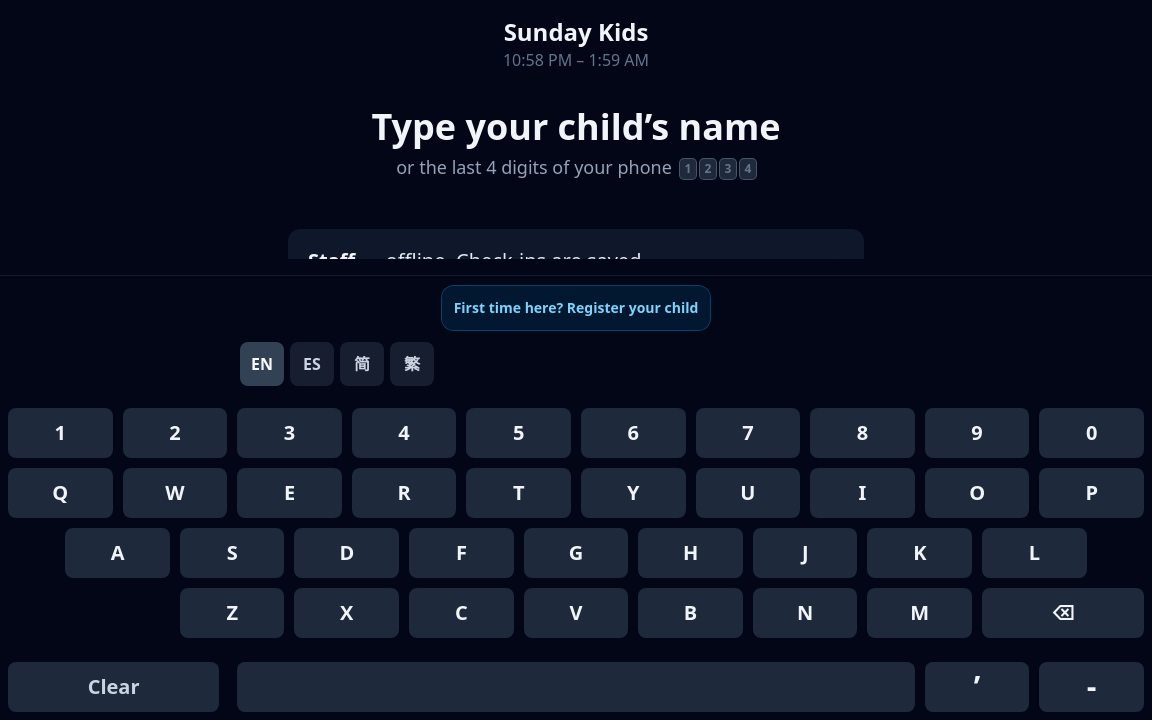
Test: what the kiosk says, while it cannot reach Tally › tells staff on untouched glass after ten minutes, and the first touch takes it away
The width and height of the screenshot is (1152, 720).
Press the mouse on the button "A": (118, 553) [65, 528, 170, 578]
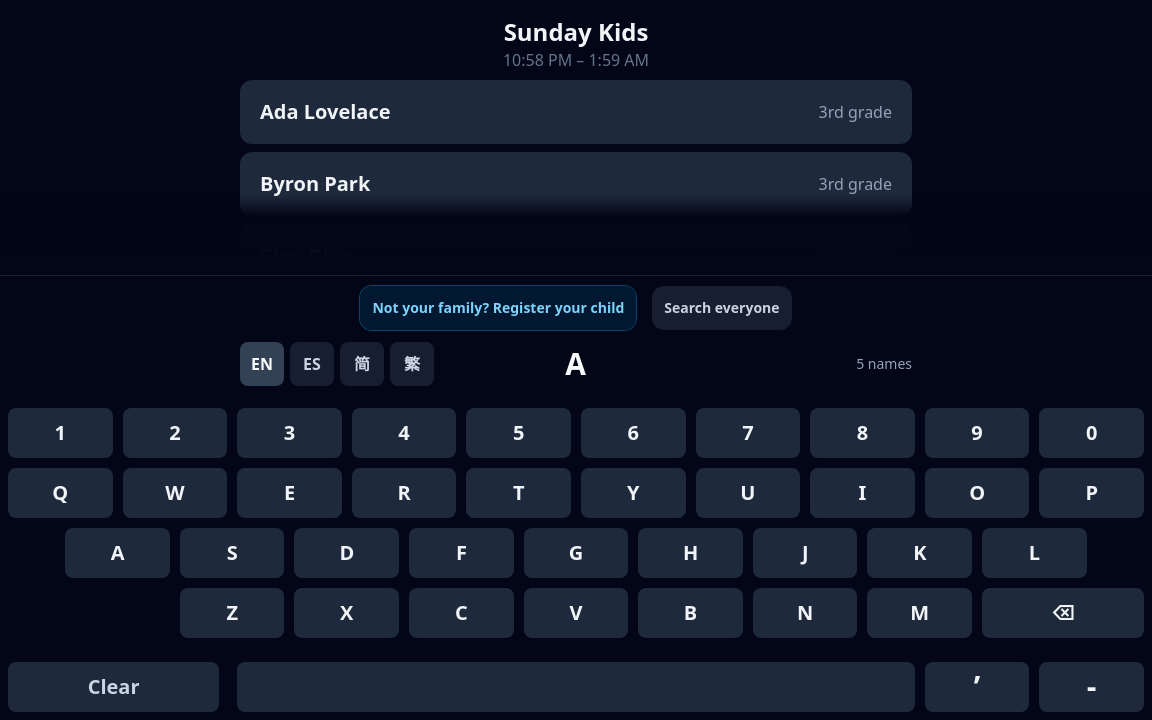
Expected: the button "offline. Check-ins are saved." is gone
